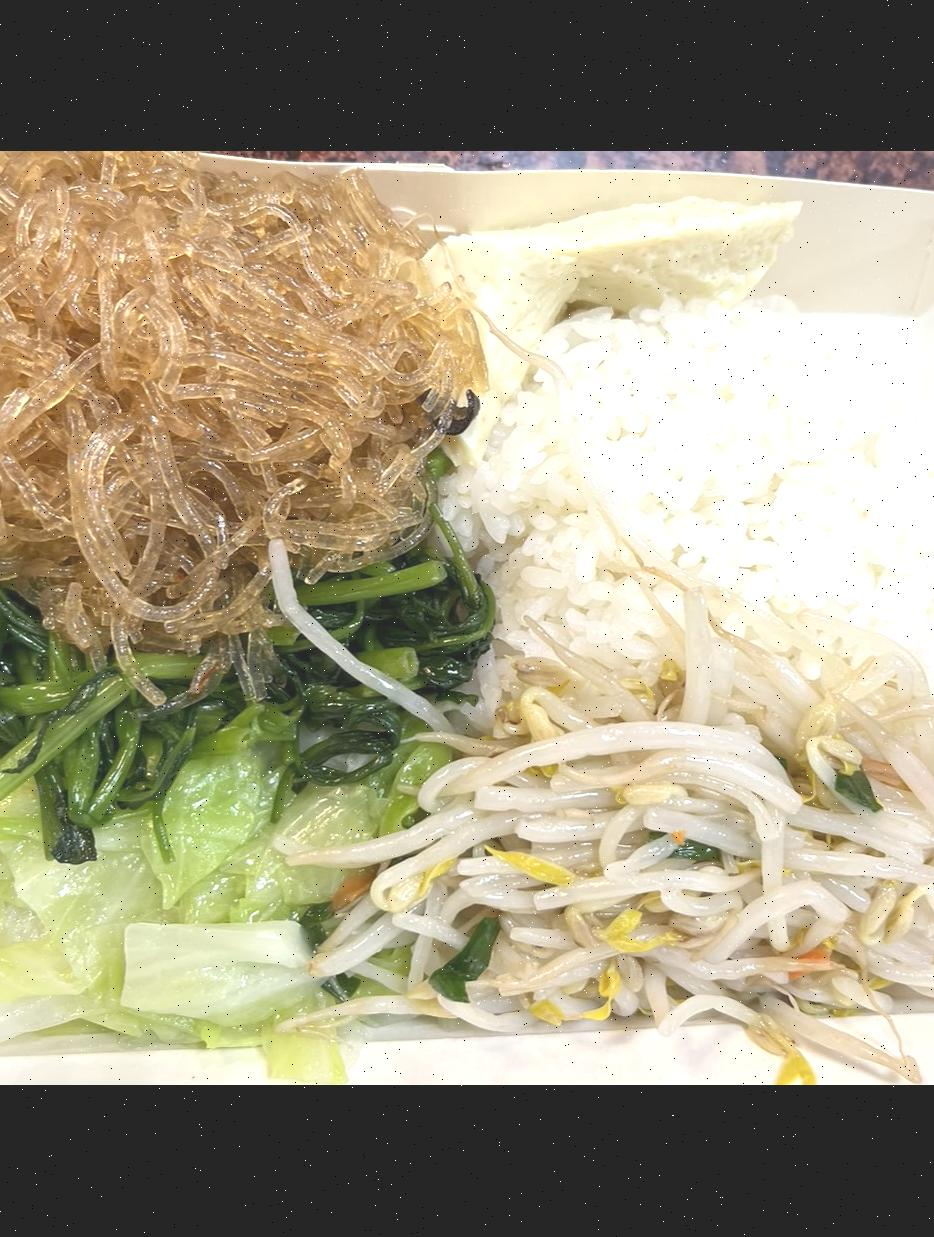box: (0, 159, 934, 1080)
side dish: (326, 642, 934, 1034), (0, 156, 477, 645), (0, 754, 420, 1081), (0, 559, 480, 794), (428, 184, 815, 464)
white rice: (451, 299, 934, 794)
